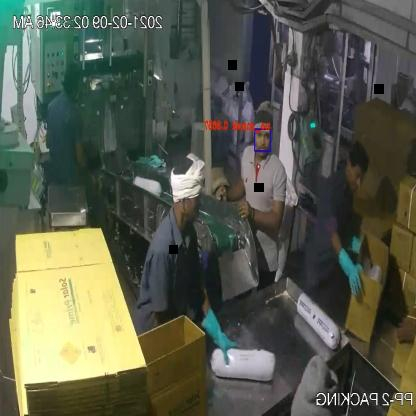glove: (202, 295, 246, 372), (328, 245, 366, 304)
no_glove: (231, 192, 285, 238), (72, 137, 106, 189), (211, 172, 250, 212)
